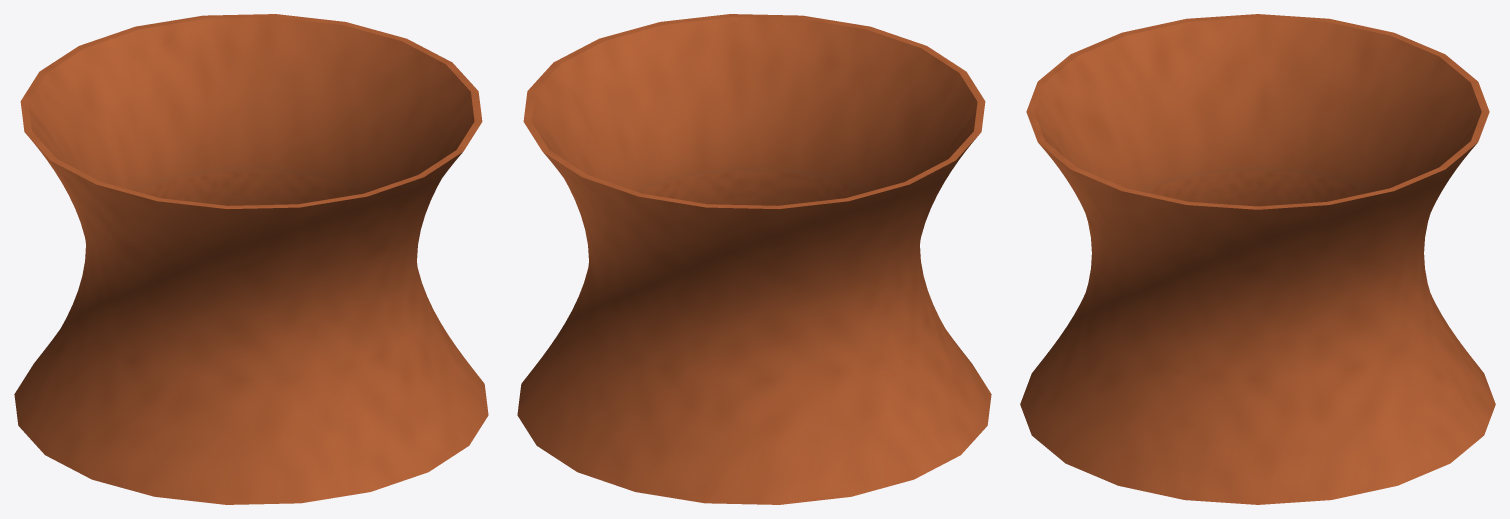
File: bor4.fbx
The picture shows the model from 3 angles, left to right: view 1: azimuth 30°, elevation 25°; view 2: azimuth 150°, elevation 25°; view 3: azimuth 270°, elevation 25°; orthographic projection.
Visible parts, largest first — view 1: BezierCurve.008; view 2: BezierCurve.008; view 3: BezierCurve.008.
Part boxes in pixels (left/top/right/bottom): BezierCurve.008: left=14, top=14, right=488, bottom=504; BezierCurve.008: left=517, top=14, right=991, bottom=504; BezierCurve.008: left=1020, top=14, right=1495, bottom=504.
Bounding box in the file's own units: 302 × 205 × 302.
